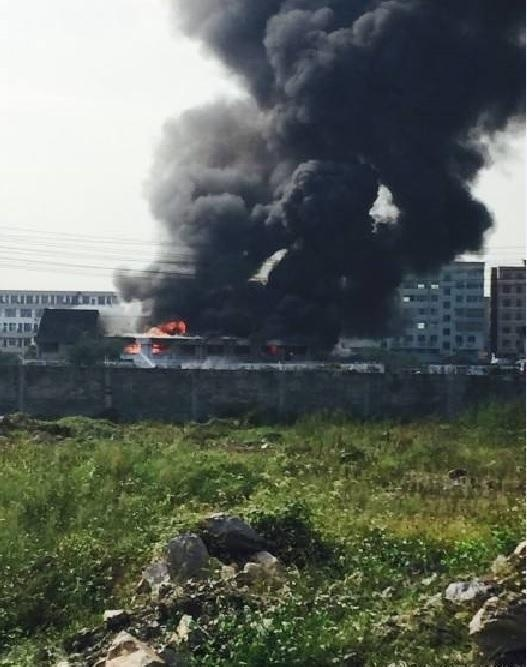fire: (123, 316, 186, 354)
